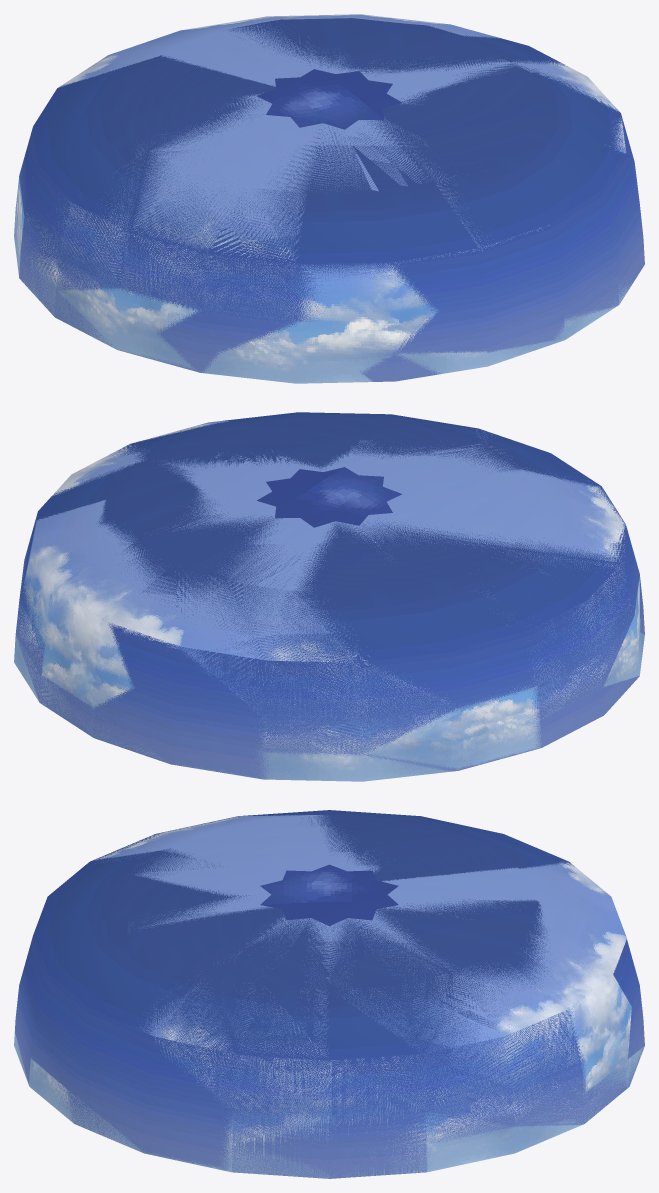
File: stage-amaz-sky.glb
3 views of the same model, one above another, from view 1: azimuth 30°, elevation 25°; view 2: azimuth 150°, elevation 25°; view 3: azimuth 270°, elevation 25° (orthographic).
Parts seen in each view (by area): view 1: sky; view 2: sky; view 3: sky.
Part boxes in pixels (box(x1,y1,x2,y2)): sky: box(14, 14, 644, 383); sky: box(14, 412, 644, 781); sky: box(14, 810, 644, 1178).
Size of the model in its own units: 3605 by 976 by 3605.
4 materials, 4 textured.
